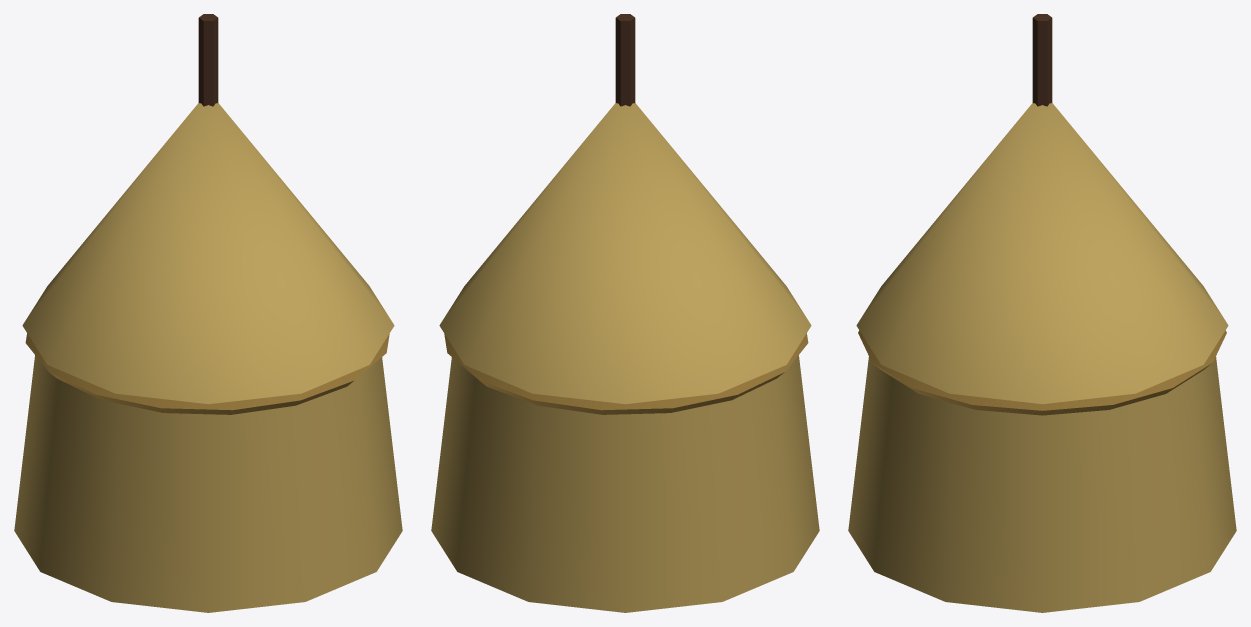
File: haystack.glb
The picture shows the model from 3 angles, left to right: view 1: azimuth 30°, elevation 25°; view 2: azimuth 150°, elevation 25°; view 3: azimuth 270°, elevation 25°; orthographic projection.
Parts seen in each view (by area): view 1: Haystack; view 2: Haystack; view 3: Haystack.
Part boxes in pixels (x1=…): Haystack: x1=14, y1=14, x2=402, y2=612; Haystack: x1=431, y1=14, x2=819, y2=612; Haystack: x1=848, y1=14, x2=1236, y2=612.
Size of what is drawn, in the model's own units: 2.4 by 3.5 by 2.4.
